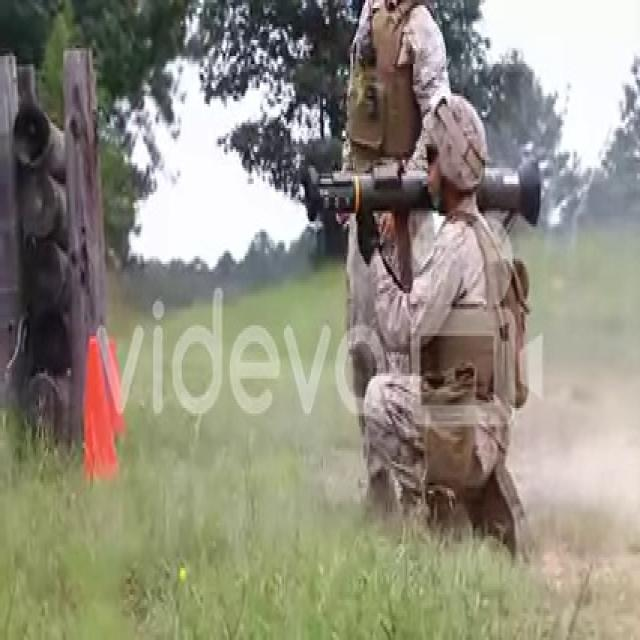bazooka: (303, 158, 551, 232)
